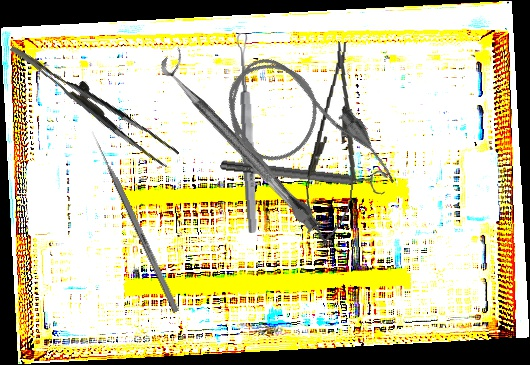Cannula: (202, 32, 404, 244)
Fixation Ring: (156, 46, 312, 210), (219, 150, 389, 198)
Needle Holder: (300, 39, 369, 247)
Pusher: (89, 129, 180, 314)
Surgical Spoon: (235, 32, 260, 234)
Tissue Forceps: (9, 20, 180, 183)
